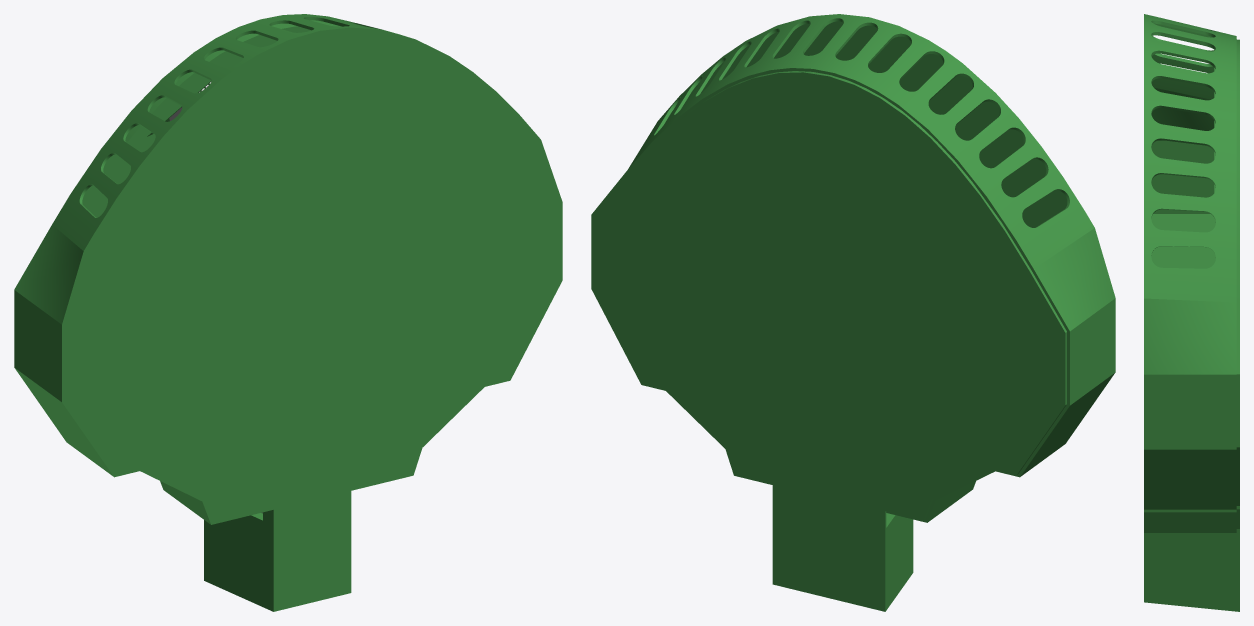
The model's file is la_Raza_CAPTAIN v6.fbx.
The picture shows the model from 3 angles, left to right: view 1: azimuth 30°, elevation 25°; view 2: azimuth 150°, elevation 25°; view 3: azimuth 270°, elevation 25°; orthographic projection. The views are drawn at different scales.
Visible parts, largest first — view 1: Body56; view 2: Body56; view 3: Body56.
Part boxes in pixels (bbox=[...]): Body56: bbox=[14, 14, 562, 611]; Body56: bbox=[591, 14, 1115, 611]; Body56: bbox=[1144, 14, 1239, 611].
Size of the model in its own units: 503 by 546 by 86.06.
